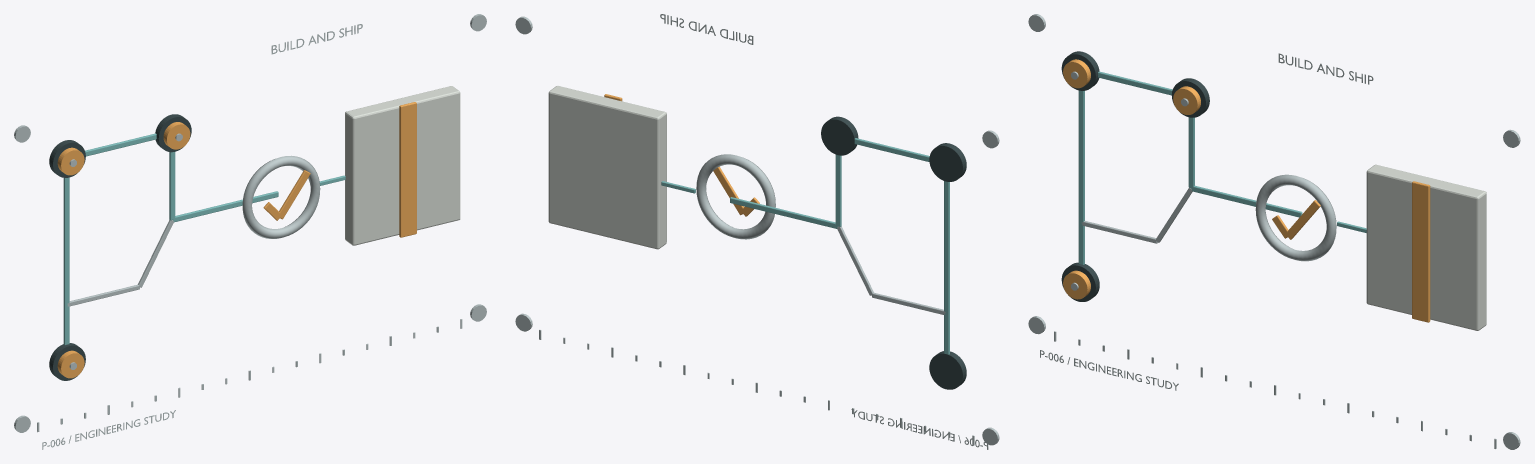
Rendered from delivery.glb.
3 renders of one model, left to right at view 1: azimuth 30°, elevation 25°; view 2: azimuth 150°, elevation 25°; view 3: azimuth 330°, elevation 25°, orthographic. The views are drawn at different scales.
Parts seen in each view (by area): view 1: optical-core__Project_Ceramic.005, optical-lenses__Project_Silver.005, optical-core__Project_Amber.005, optical-lenses__Project_Trace.004, optical-core__Project_Graphite.005, optical-lenses__Project_Amber.003; view 2: optical-core__Project_Ceramic.005, optical-lenses__Project_Silver.005, optical-core__Project_Graphite.005, optical-lenses__Project_Trace.004; view 3: optical-core__Project_Ceramic.005, optical-lenses__Project_Silver.005, optical-core__Project_Amber.005, optical-lenses__Project_Trace.004, optical-core__Project_Graphite.005, optical-lenses__Project_Amber.003.
Boxes of the visible parts, x1=… form: optical-core__Project_Ceramic.005: x1=345, y1=86, x2=460, y2=245; optical-lenses__Project_Silver.005: x1=14, y1=14, x2=486, y2=449; optical-core__Project_Amber.005: x1=57, y1=102, x2=416, y2=378; optical-lenses__Project_Trace.004: x1=63, y1=133, x2=345, y2=344; optical-core__Project_Graphite.005: x1=49, y1=114, x2=191, y2=380; optical-lenses__Project_Amber.003: x1=263, y1=170, x2=310, y2=220; optical-core__Project_Ceramic.005: x1=548, y1=86, x2=666, y2=249; optical-lenses__Project_Silver.005: x1=515, y1=14, x2=999, y2=449; optical-core__Project_Graphite.005: x1=821, y1=116, x2=966, y2=389; optical-lenses__Project_Trace.004: x1=661, y1=138, x2=949, y2=354; optical-core__Project_Ceramic.005: x1=1366, y1=164, x2=1486, y2=330; optical-lenses__Project_Silver.005: x1=1028, y1=14, x2=1520, y2=449; optical-core__Project_Amber.005: x1=1063, y1=59, x2=1430, y2=322; optical-lenses__Project_Trace.004: x1=1078, y1=71, x2=1366, y2=264; optical-core__Project_Graphite.005: x1=1061, y1=51, x2=1209, y2=301; optical-lenses__Project_Amber.003: x1=1272, y1=200, x2=1320, y2=239.
Bounding box in the file's own units: 4.01 × 2.83 × 0.1565.
